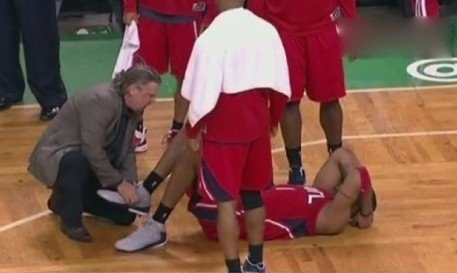falling: (98, 137, 401, 253)
